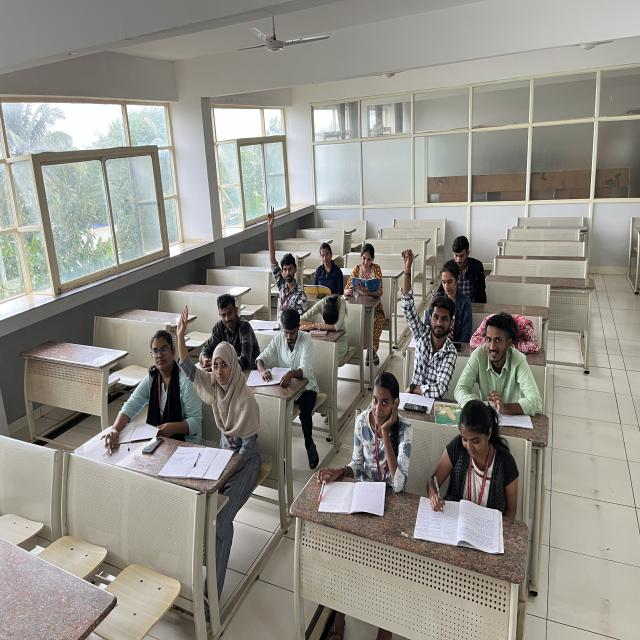Hand Rising: (174, 299, 245, 484), (394, 251, 456, 377), (255, 205, 304, 305)
Reading: (257, 310, 315, 394), (345, 242, 387, 296), (309, 230, 342, 294)
Sleeping: (306, 289, 353, 338)
Writing: (423, 396, 520, 538)
